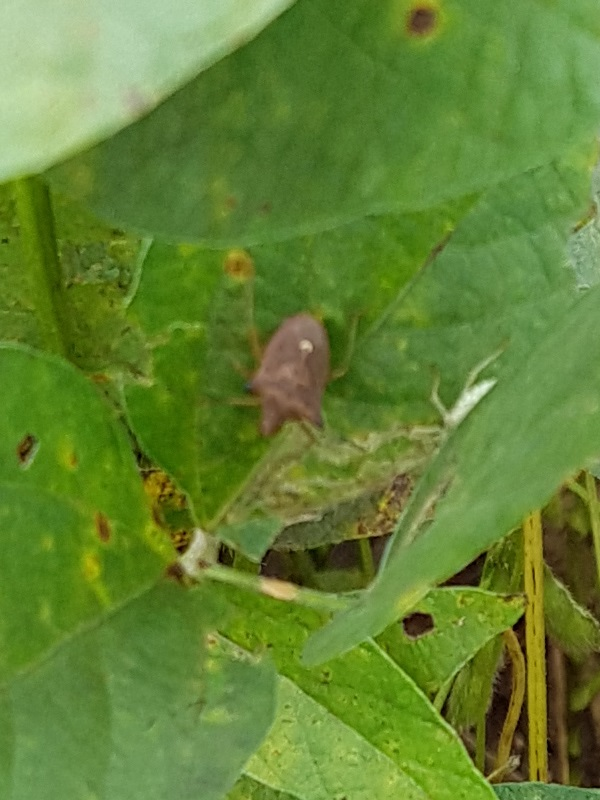Euschistus_heros_adulto: (213, 281, 372, 451)
